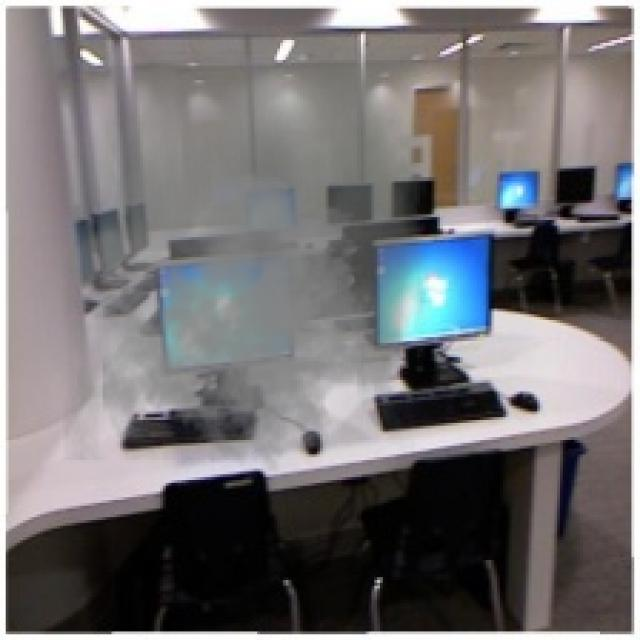smoke: (63, 66, 428, 474)
